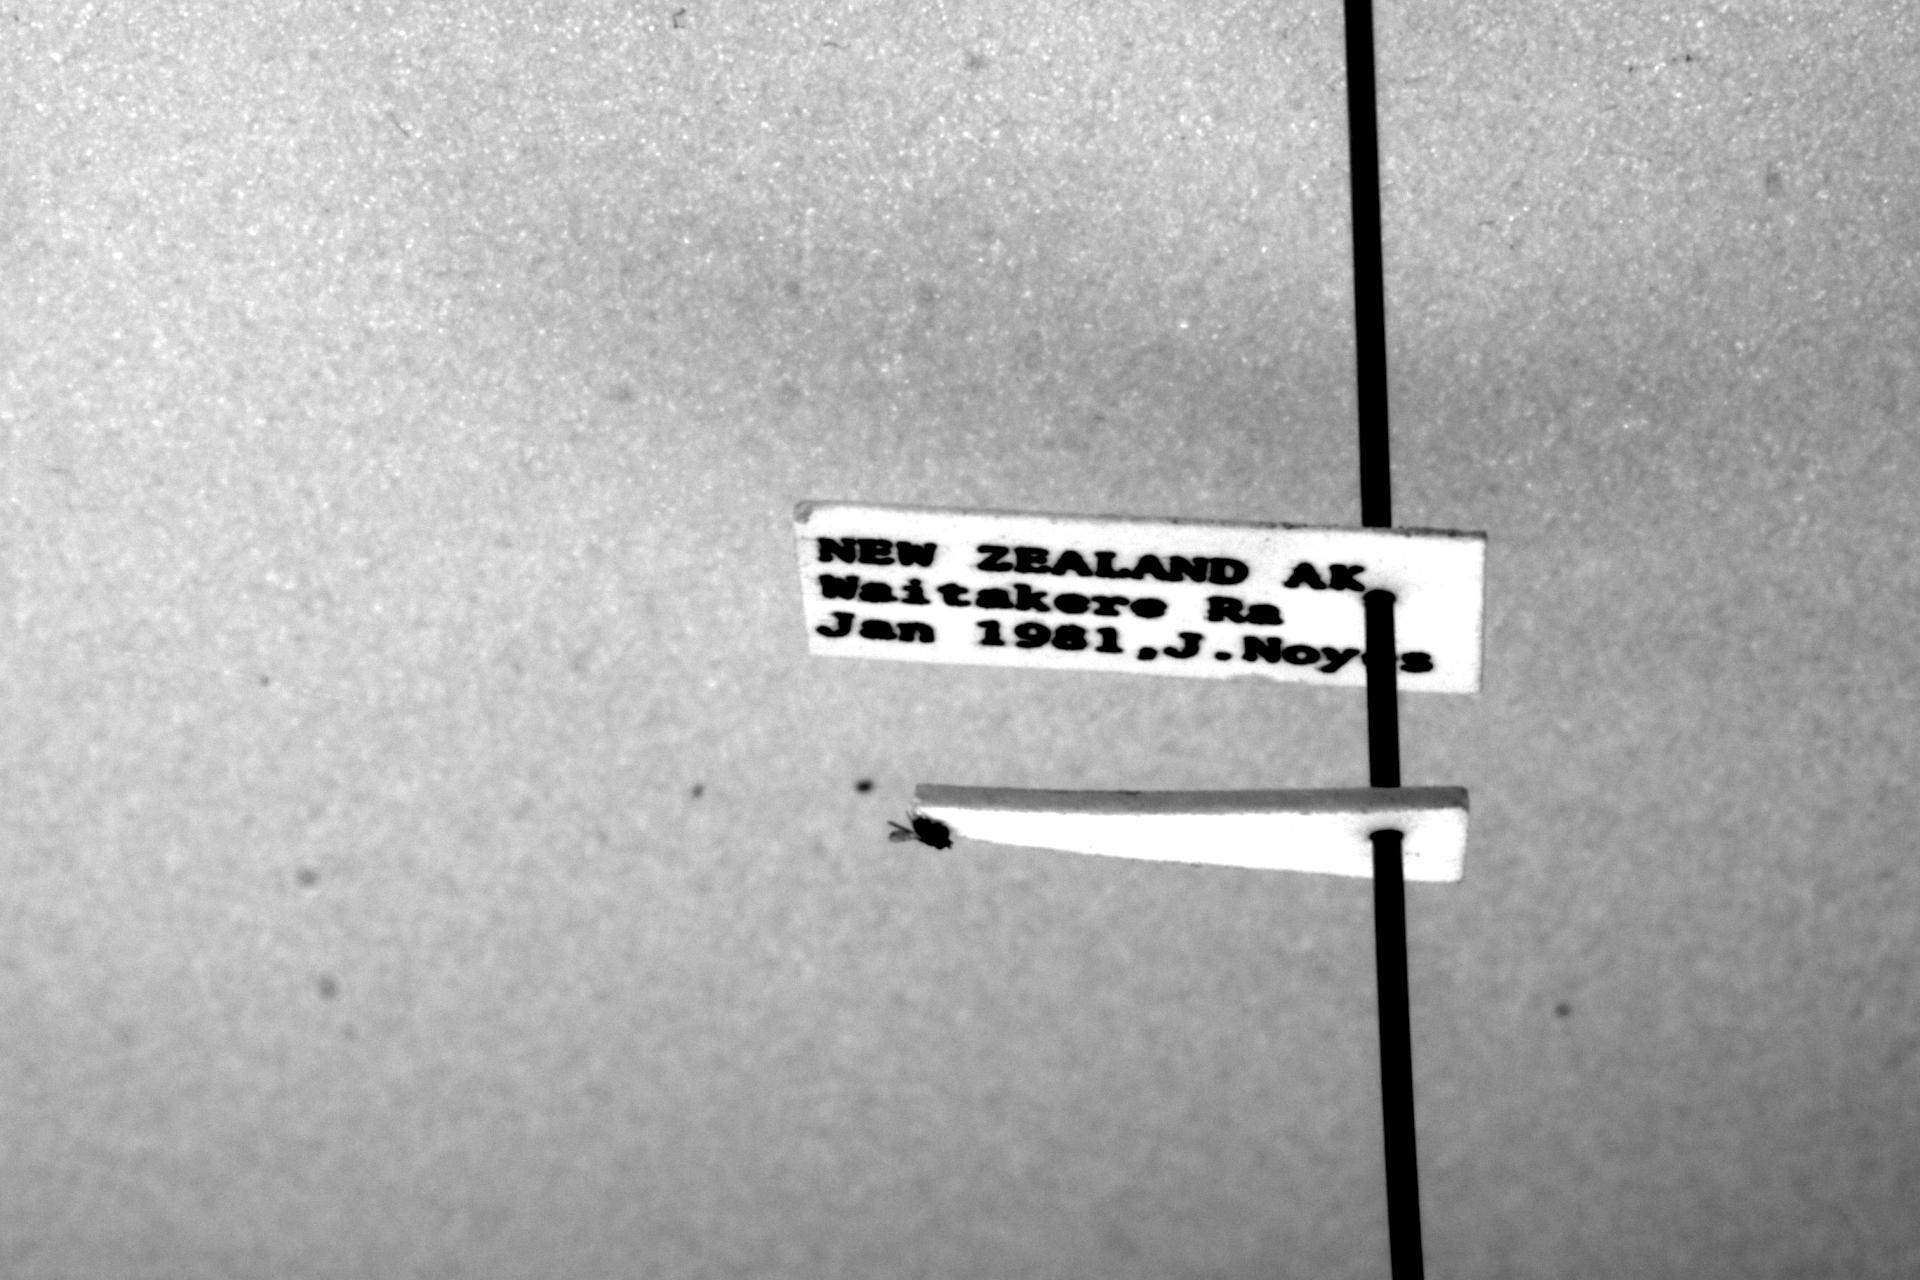typed_label: (794, 503, 1486, 694)
